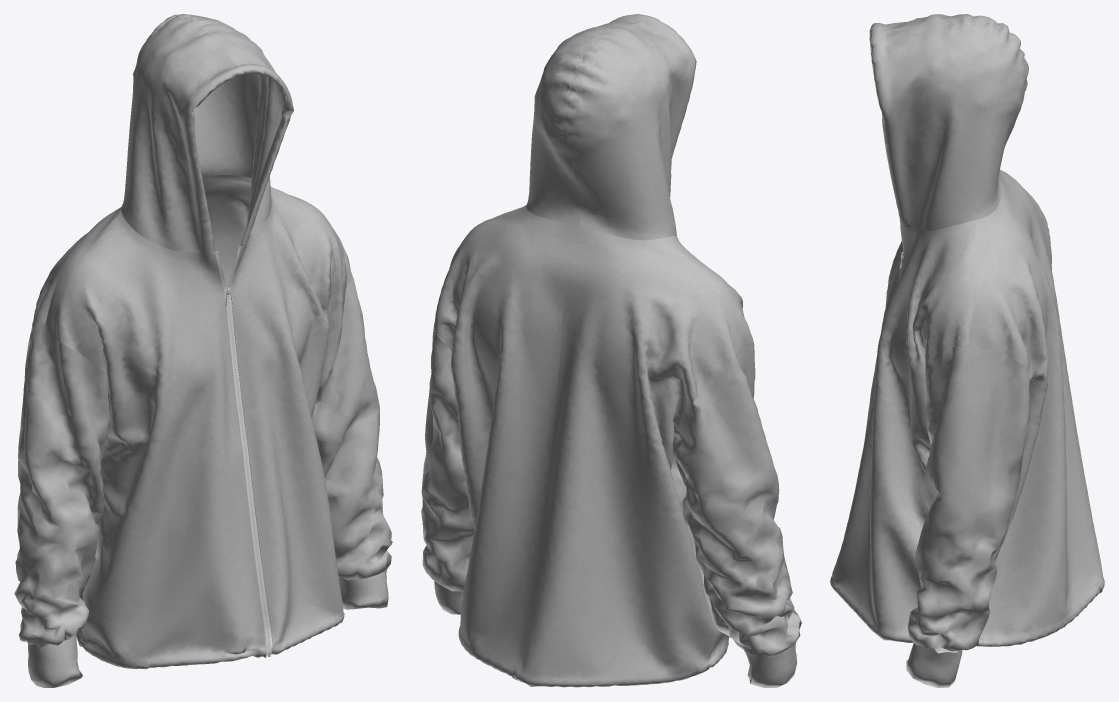
Rendered from hoodie-web.glb.
3 views of the same model, side by side, from view 1: azimuth 30°, elevation 25°; view 2: azimuth 150°, elevation 25°; view 3: azimuth 270°, elevation 25° (orthographic). The views are drawn at different scales.
Visible parts, largest first — view 1: Object_8, Object_16, Object_6, Object_5; view 2: Object_8, Object_16; view 3: Object_8, Object_16.
Part boxes in pixels (box(x1,y1,x2,y2)): Object_8: box(14, 14, 392, 669); Object_16: box(28, 570, 388, 687); Object_6: box(215, 251, 269, 656); Object_5: box(228, 246, 272, 654); Object_8: box(421, 14, 801, 687); Object_16: box(434, 581, 797, 687); Object_8: box(830, 14, 1104, 653); Object_16: box(906, 643, 962, 687).
Bounding box in the file's own units: 0.534 × 0.8557 × 0.3588.
5 materials, 5 textured.
